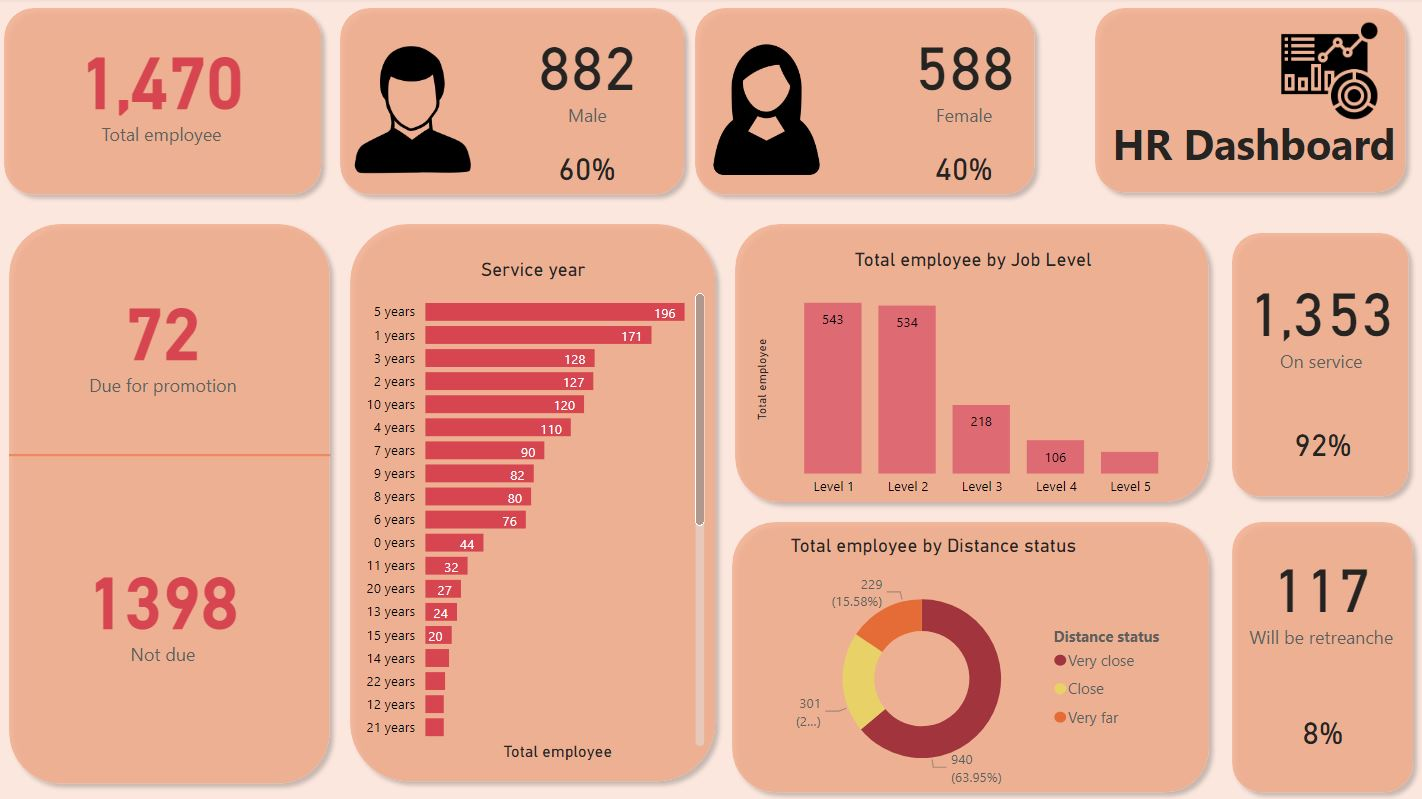

Layout of this report page (visuals, bound fields, positions):
{"tool":"powerbi","page":{"name":"Page 1","canvas":[1280,720],"ordinal":0},"visuals":[{"type":"shape","box":[0,0,301.8,185.4],"z":1000},{"type":"shape","box":[300.9,0,326,185.4],"z":2000},{"type":"shape","box":[618.8,0,322.4,185.4],"z":3000},{"type":"shape","box":[4.5,193.4,305.4,518.5],"z":4000},{"type":"shape","box":[977,0,296.4,182.7],"z":5000},{"type":"shape","box":[309.9,193.4,344.8,516.7],"z":6000},{"type":"shape","box":[654.6,193.4,442.4,266.9],"z":7000},{"type":"shape","box":[1099.7,201.5,176.4,254.3],"z":8000},{"type":"shape","box":[1099.7,460.3,180,259.7],"z":9000},{"type":"shape","box":[651.9,460.3,445.1,259.7],"z":10000},{"type":"card","fields":{"Values":["All Measures.Total employee"]},"box":[0,4.5,300,147.8],"z":11000},{"type":"card","fields":{"Values":["All Measures.Male"]},"box":[443.3,0,175.5,134.3],"z":12000},{"type":"card","fields":{"Values":["All Measures.%male"]},"box":[489,120.9,84.2,61.8],"z":12001},{"type":"card","fields":{"Values":["All Measures.Female"]},"box":[788.1,12.5,161.2,108.4],"z":12002},{"type":"card","fields":{"Values":["All Measures.%female"]},"box":[822.1,120.9,93.1,61.8],"z":12003},{"type":"card","fields":{"Values":["All Measures.Not due"]},"box":[54.6,469.3,192.5,149.6],"z":12004},{"type":"card","fields":{"Values":["All Measures.Due for promotion"]},"box":[59.1,223.9,184.5,158.5],"z":12005},{"type":"shape","box":[13.4,399.4,288.4,19.7],"z":12006},{"type":"barChart","title":"Service year","fields":{"Category":["HR Analytics Data.Service year"],"Y":["All Measures.Total employee"]},"box":[324.2,232.8,317,454.9],"z":12007},{"type":"columnChart","fields":{"Category":["HR Analytics Data.Job Level"],"Y":["All Measures.Total employee"]},"box":[677,223.9,399.4,231.9],"z":12008},{"type":"card","fields":{"Values":["All Measures.On service"]},"box":[1097,232.8,182.7,108.4],"z":12009},{"type":"card","fields":{"Values":["All Measures.%on service"]},"box":[1143.6,368.1,93.1,61.8],"z":12010},{"type":"card","fields":{"Values":["All Measures.Will be retreanche"]},"box":[1097,480,182.7,108.4],"z":12011},{"type":"card","fields":{"Values":["All Measures.%will be retreanch"]},"box":[1143.6,626,93.1,61.8],"z":12012},{"type":"donutChart","fields":{"Category":["HR Analytics Data.Distance status"],"Y":["All Measures.Total employee"]},"box":[708.4,480,356.4,240],"z":12013},{"type":"image","box":[309.9,34.9,129.9,129.9],"z":12014},{"type":"image","box":[618.8,26,146,147.8],"z":12015},{"type":"textbox","box":[977,100.3,302.7,85.1],"z":12016},{"type":"image","box":[1128.4,12.5,135.2,104.8],"z":12017}]}

Visuals, with their boxes in screenshot pixels (x1, y1, x2, y2), scaled from the page's 1280x720 canvas onto the 1422x799 screenshot:
shape: 0/0/335/206
shape: 334/0/696/206
shape: 687/0/1046/206
shape: 5/215/344/790
shape: 1085/0/1415/203
shape: 344/215/727/788
shape: 727/215/1219/511
shape: 1222/224/1418/506
shape: 1222/511/1421/798
shape: 724/511/1219/798
card - All Measures.Total employee: 0/5/333/169
card - All Measures.Male: 492/0/687/149
card - All Measures.%male: 543/134/637/203
card - All Measures.Female: 876/14/1055/134
card - All Measures.%female: 913/134/1017/203
card - All Measures.Not due: 61/521/275/687
card - All Measures.Due for promotion: 66/248/271/424
shape: 15/443/335/465
"Service year" barChart: 360/258/712/763
columnChart - HR Analytics Data.Job Level x All Measures.Total employee: 752/248/1196/506
card - All Measures.On service: 1219/258/1421/379
card - All Measures.%on service: 1270/408/1374/477
card - All Measures.Will be retreanche: 1219/533/1421/653
card - All Measures.%will be retreanch: 1270/695/1374/763
donutChart - HR Analytics Data.Distance status x All Measures.Total employee: 787/533/1183/798
image: 344/39/489/183
image: 687/29/850/193
textbox: 1085/111/1421/206
image: 1254/14/1404/130
